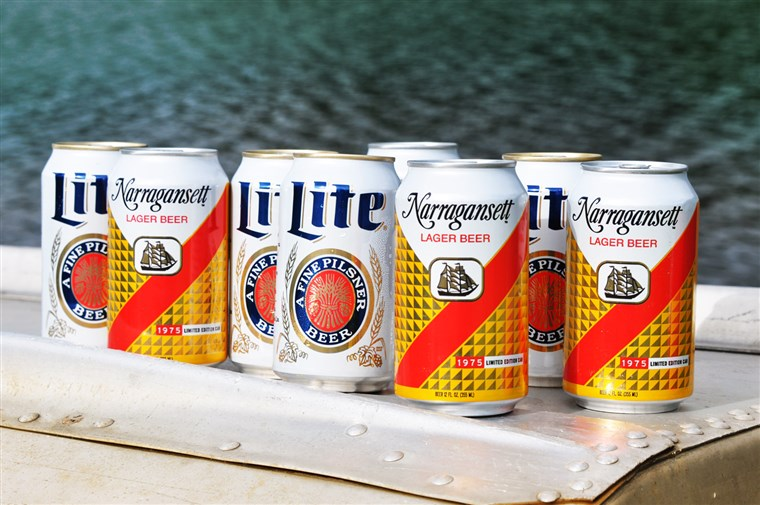beer can: (395, 160, 529, 418), (566, 158, 694, 420), (278, 147, 393, 392), (108, 146, 229, 370), (498, 153, 604, 403), (231, 147, 341, 377), (41, 139, 146, 350)
